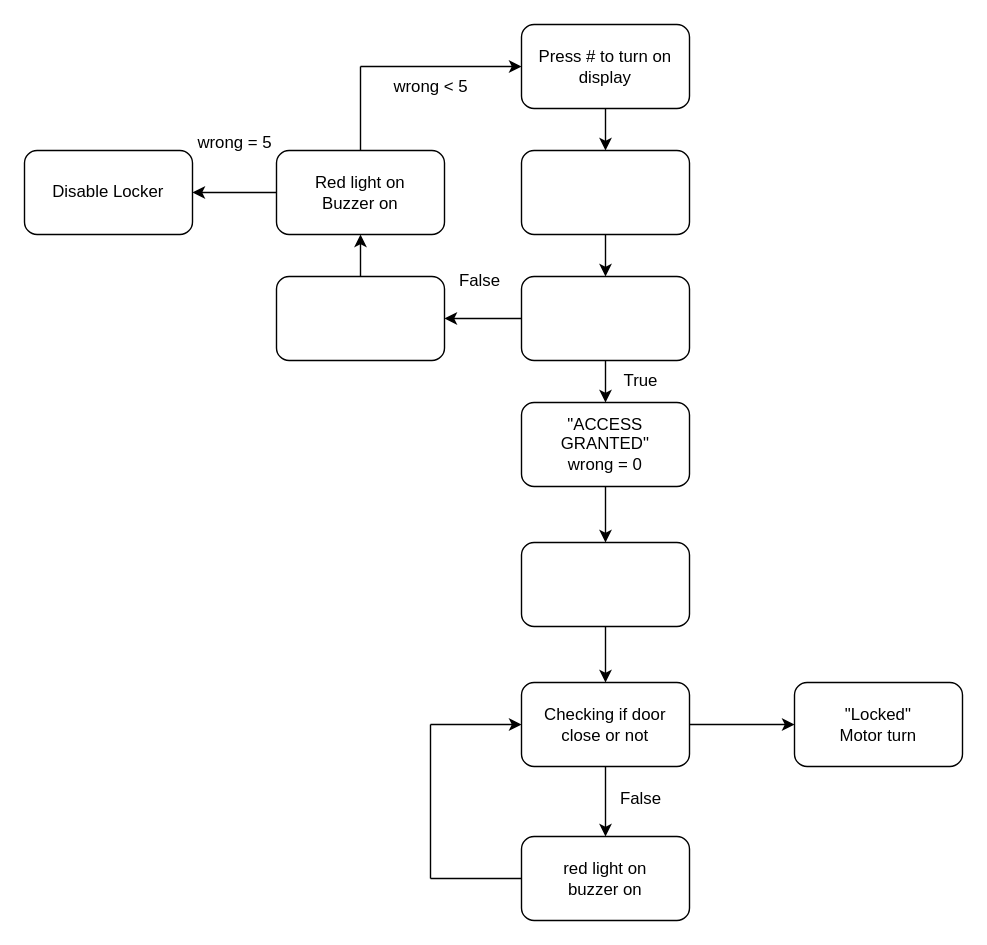
This 987x945 diagram has some shape labels left out. Here are the shapes that lost their labels. From the top down, the centre of each, then its label:
the point at 605,191: User inserts passcode from keypad
the point at 359,317: "ACCESS DENIED" wrong+1
the point at 605,317: Checking passcode
the point at 605,583: Green light on Motor turn
